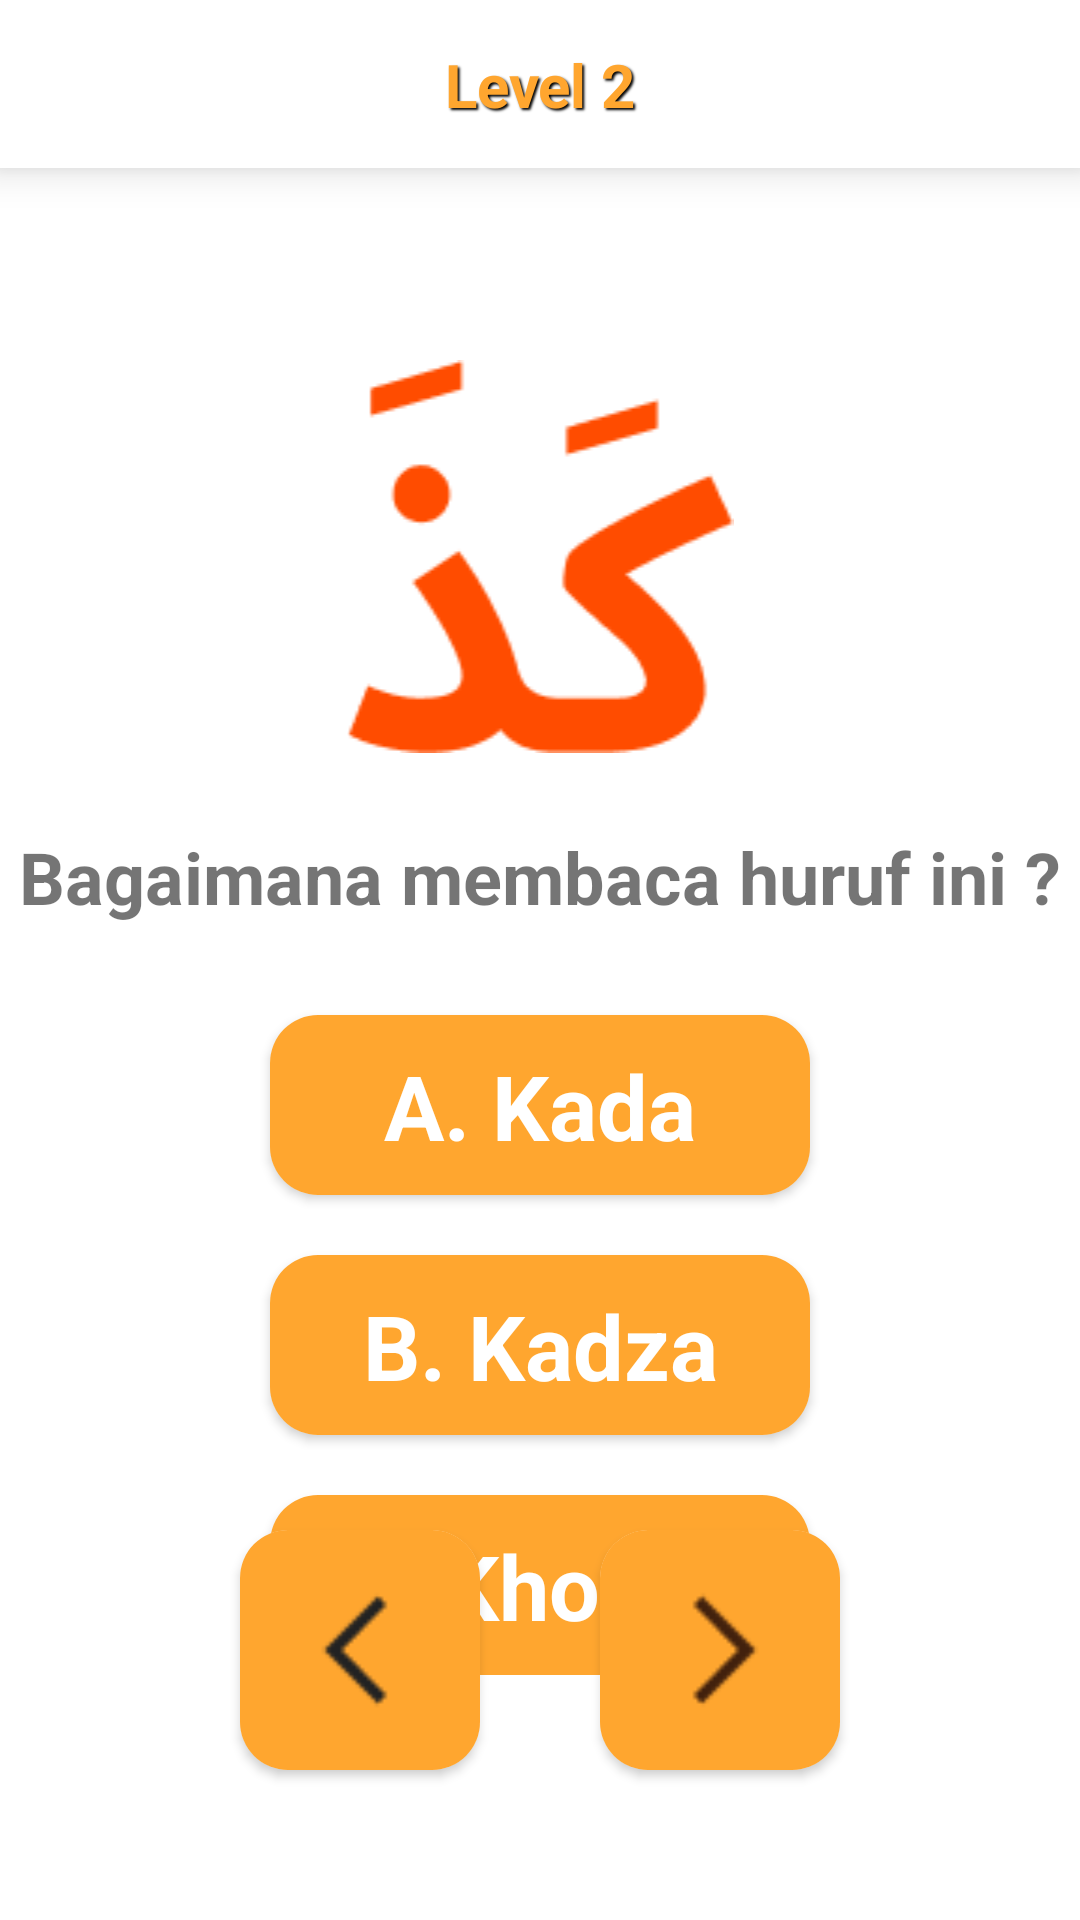

Icon click points for this 1080w x 1920h phone screenshot, format (x,y):
sebelum: (355,1650)
setelah: (724,1650)
